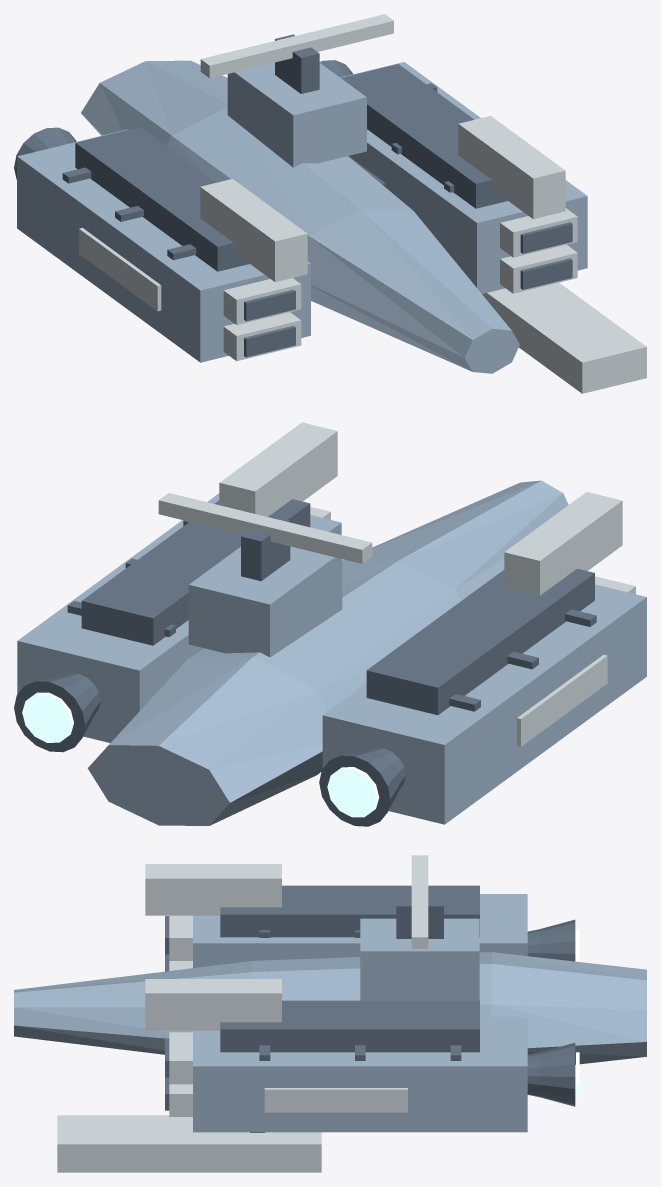
The picture shows the model from 3 angles, top to bottom: view 1: azimuth 30°, elevation 25°; view 2: azimuth 150°, elevation 25°; view 3: azimuth 270°, elevation 25°; orthographic projection. The views are drawn at different scales.
Size of the model in its own units: 12.17 by 6.76 by 18.54.
